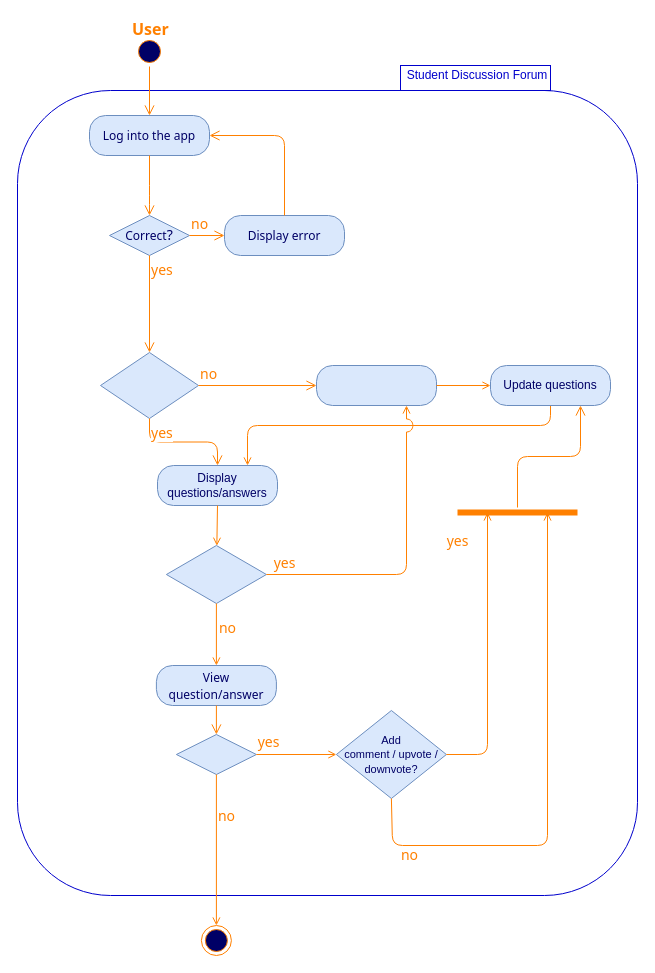
The diagram is 655 pixels wide and 973 high, and some of its shapes have lost their labels. The shapes that lost their labels are listed below. From the top down, each one's centre as x and y in pixels, then its label:
At point 149,385: "Surf Questions".
At point 376,385: "Enter a new question/answer".
At point 215,574: "Add new question/ answer?".
At point 215,754: "React".
